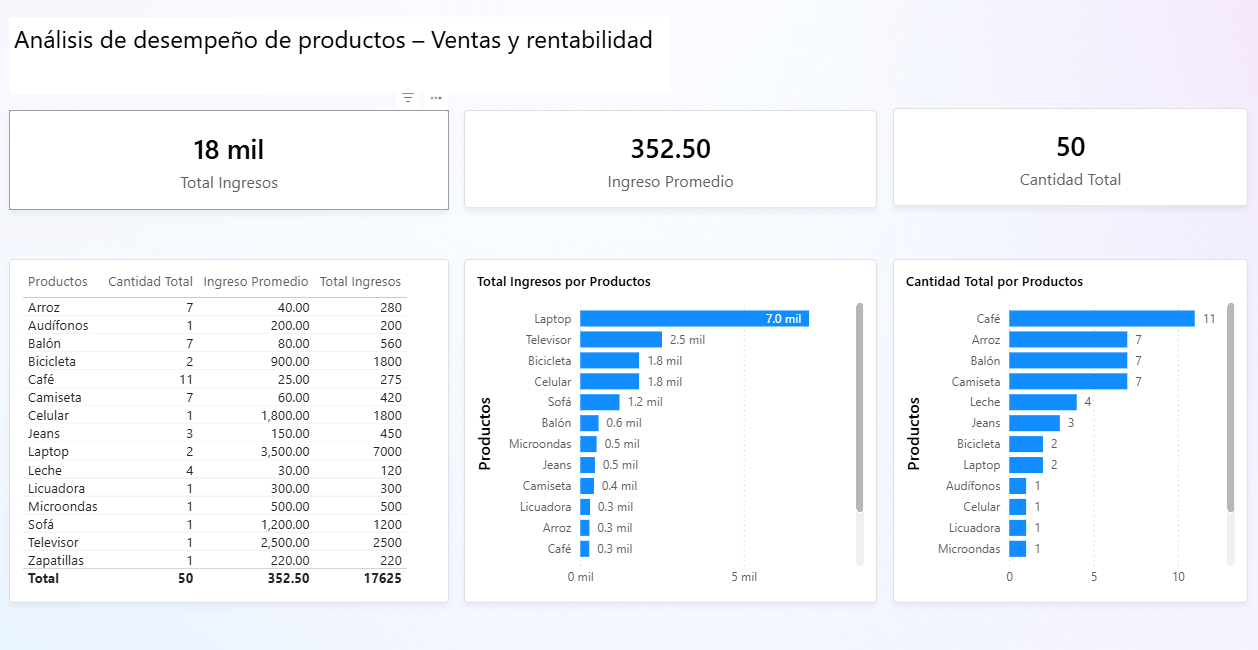

What the dashboard file says about the page in this screenshot:
{"tool":"powerbi","page":{"name":"Página 1","canvas":[1280,720],"ordinal":0},"visuals":[{"type":"card","fields":{"Values":["Tabla.TotalIngresos"]},"box":[23.2,113.8,439.1,99.9],"z":0},{"type":"card","fields":{"Values":["Tabla.Cantidad Total"]},"box":[904.9,111.7,354.2,97.8],"z":1000},{"type":"card","fields":{"Values":["Tabla.Ingreso Promedio"]},"box":[476.9,113.7,412,97.8],"z":2000},{"type":"barChart","fields":{"Y":["Tabla.Total Ingresos"],"Category":["productos.nombre"]},"box":[476.9,262.4,412,343.2],"z":3000},{"type":"barChart","fields":{"Category":["productos.nombre"],"Y":["Tabla.Cantidad Total"]},"box":[904.9,262.4,354.2,343.2],"z":4000},{"type":"tableEx","fields":{"Values":["productos.Productos","Tabla.Cantidad Total","Tabla.Ingreso Promedio","Tabla.Total Ingresos"]},"box":[22.9,262.4,439,343.2],"z":6000},{"type":"textbox","box":[22.9,21,660.5,75.8],"z":7000}]}

Visuals, with their boxes on the page's 1280x720 design canvas (x1, y1, x2, y2). These are canvas units, not pixel positions in the 1258x650 screenshot, which may show the page scaled, cropped or inside an application window:
card - Tabla.TotalIngresos: x1=23 y1=114 x2=462 y2=214
card - Tabla.Cantidad Total: x1=905 y1=112 x2=1259 y2=210
card - Tabla.Ingreso Promedio: x1=477 y1=114 x2=889 y2=212
barChart - Tabla.Total Ingresos x productos.nombre: x1=477 y1=262 x2=889 y2=606
barChart - productos.nombre x Tabla.Cantidad Total: x1=905 y1=262 x2=1259 y2=606
tableEx - productos.Productos x Tabla.Cantidad Total: x1=23 y1=262 x2=462 y2=606
textbox: x1=23 y1=21 x2=683 y2=97
